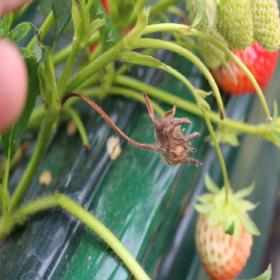Gray Mold: (123, 90, 204, 166)
